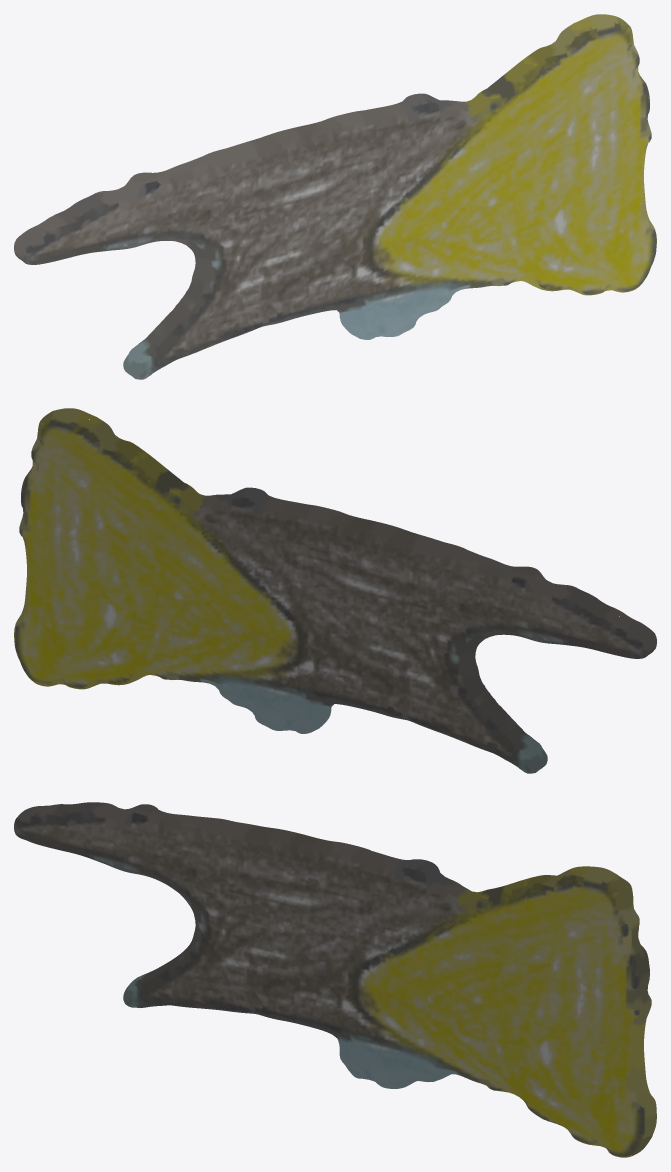
Rendered from blue_tang_l.gltf.
3 renders of one model, top to bottom at view 1: azimuth 30°, elevation 25°; view 2: azimuth 150°, elevation 25°; view 3: azimuth 330°, elevation 25°, orthographic.
Size of the model in its own units: 0.2523 by 0.1057 by 0.0101.
